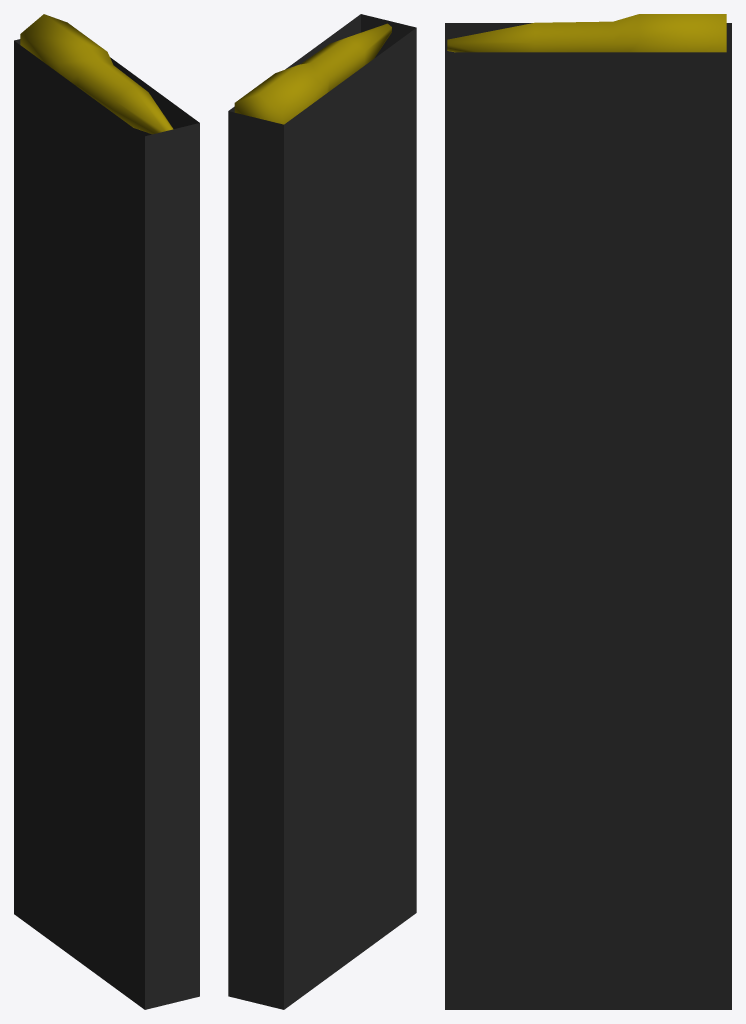
File: Magazine 3cm_15.fbx
The picture shows the model from 3 angles, left to right: view 1: azimuth 30°, elevation 25°; view 2: azimuth 150°, elevation 25°; view 3: azimuth 270°, elevation 25°; orthographic projection. The views are drawn at different scales.
Parts seen in each view (by area): view 1: Magazine 3/15; view 2: Magazine 3/15; view 3: Magazine 3/15.
Part boxes in pixels (x1,y1,x2,y2): Magazine 3/15: (14,14,199,1009); Magazine 3/15: (228,14,416,1009); Magazine 3/15: (445,14,731,1009).
Bounding box in the file's own units: 6.86 × 107 × 28.27.
